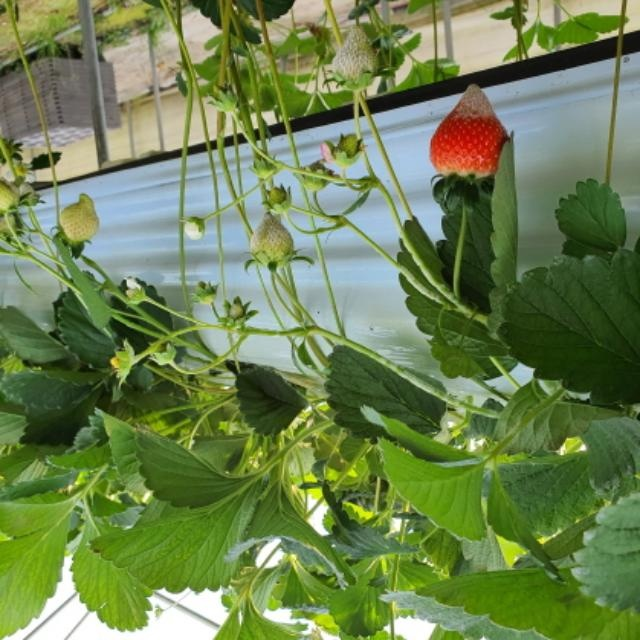Powdery Mildew Fruit: (427, 84, 509, 182), (328, 22, 383, 90), (249, 215, 293, 269)
